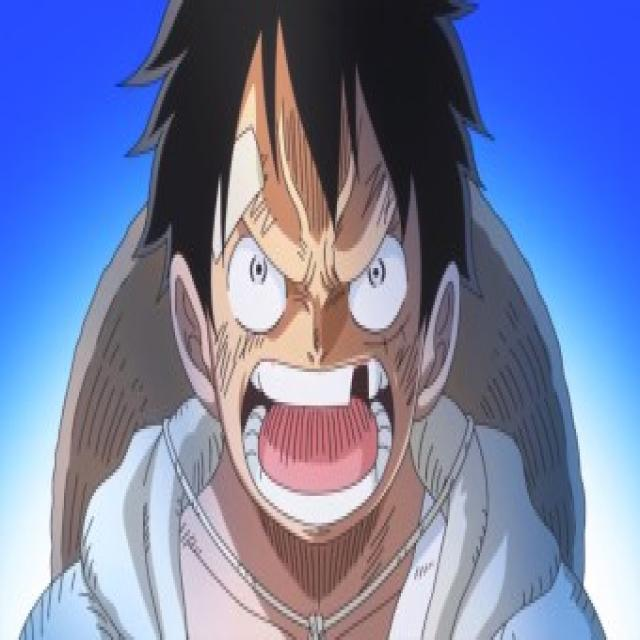Luffy: (130, 7, 496, 565)
